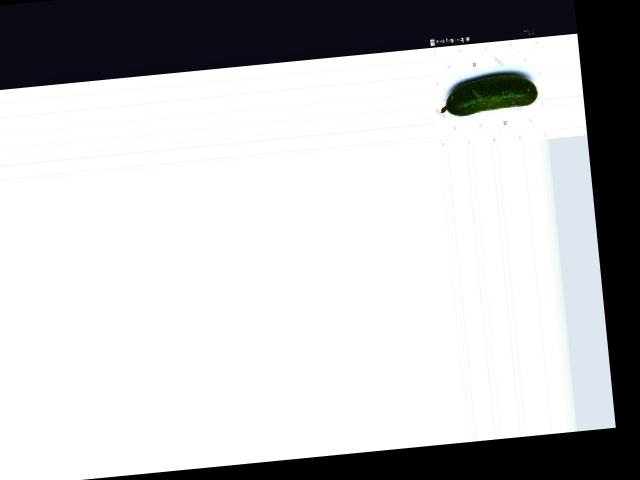cucumber: (437, 71, 539, 118)
